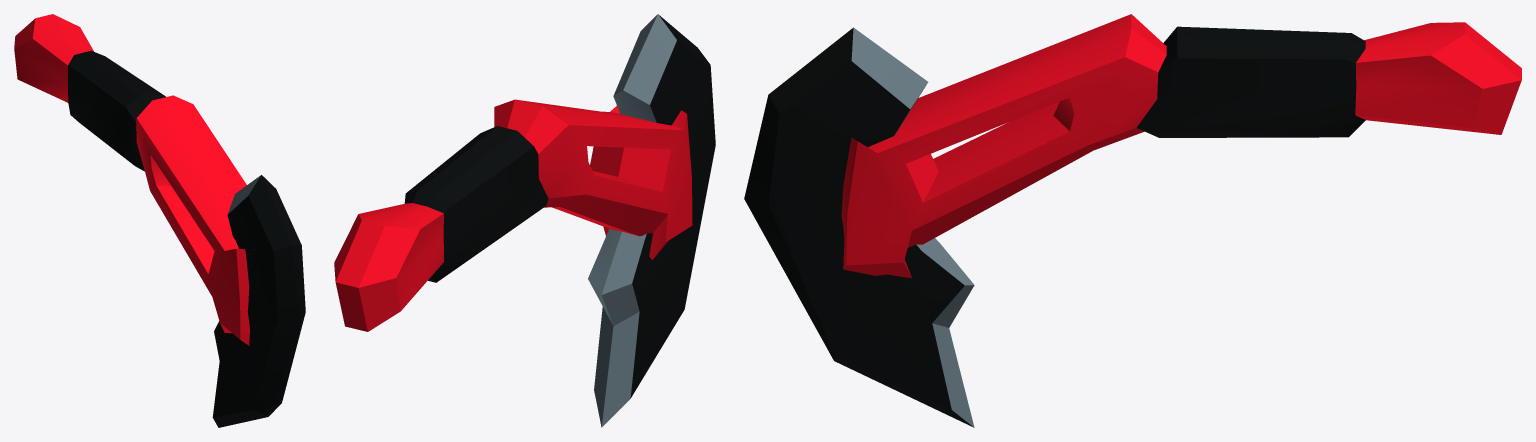
The model's file is climbingAxe.obj.
The picture shows the model from 3 angles, left to right: view 1: azimuth 30°, elevation 25°; view 2: azimuth 150°, elevation 25°; view 3: azimuth 270°, elevation 25°; orthographic projection. The views are drawn at different scales.
Visible parts, largest first — view 1: climbingAxe_Cube.4636; view 2: climbingAxe_Cube.4636; view 3: climbingAxe_Cube.4636.
Part boxes in pixels (box(x1,y1,x2,y2)): climbingAxe_Cube.4636: box(14, 14, 305, 427); climbingAxe_Cube.4636: box(334, 14, 715, 427); climbingAxe_Cube.4636: box(744, 14, 1521, 427).
Bounding box in the file's own units: 0.0855 × 0.4159 × 0.7206.
